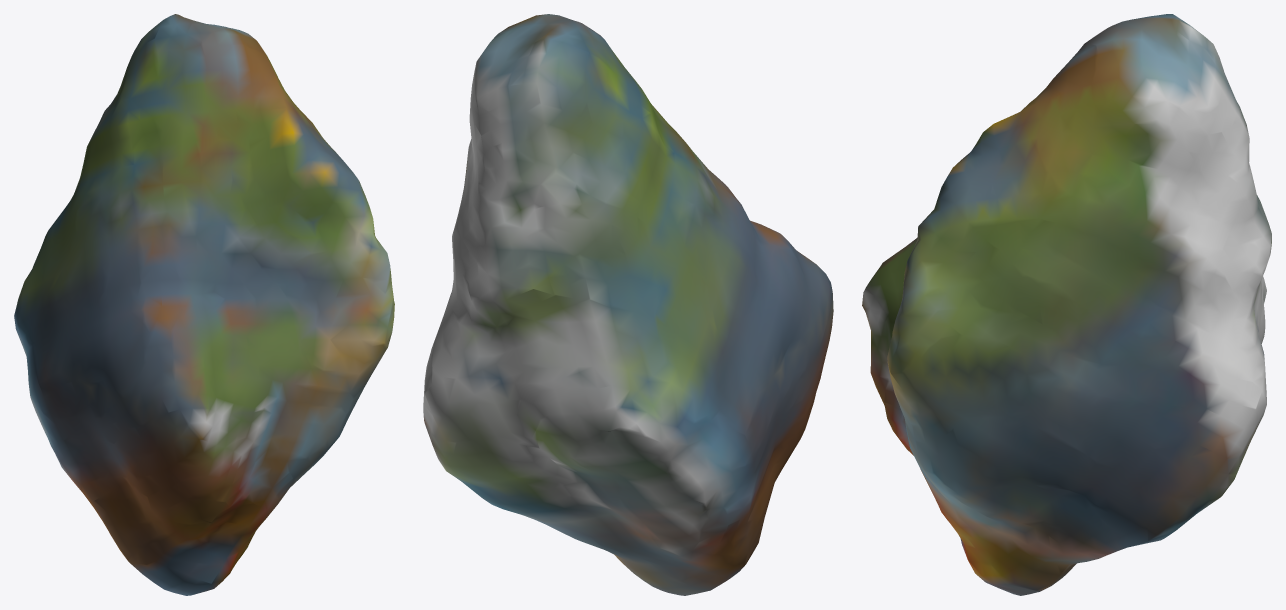
File: stucking_cups.glb
3 renders of one model, left to right at view 1: azimuth 30°, elevation 25°; view 2: azimuth 150°, elevation 25°; view 3: azimuth 270°, elevation 25°, orthographic. The views are drawn at different scales.
Size of the model in its own units: 0.5444 by 1 by 0.6153.
